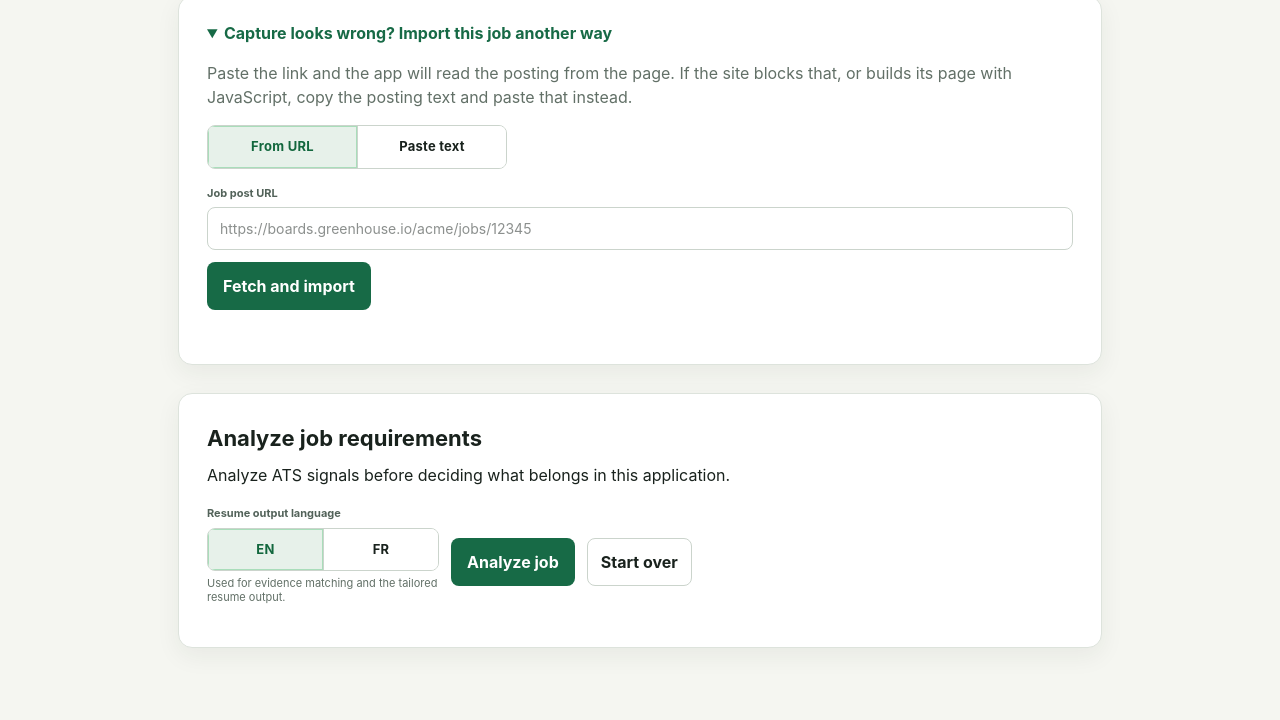
render stability during a run › ignores a repeated capture event for the job already on screen
(page scrolled)
Click the button "Analyze job" at [513, 562], box x1=451 y1=538 x2=575 y2=586
(page scrolled)
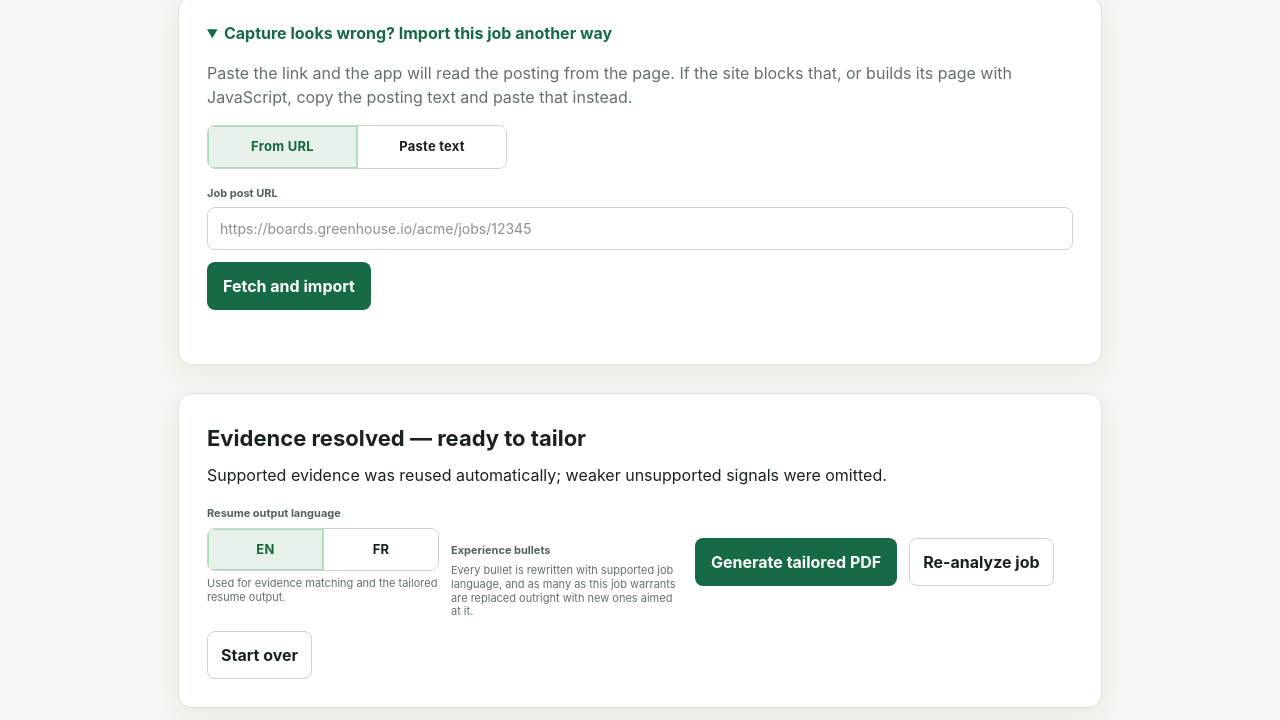
Check: the button "Generate tailored PDF" is shown, box x1=695 y1=538 x2=897 y2=586
